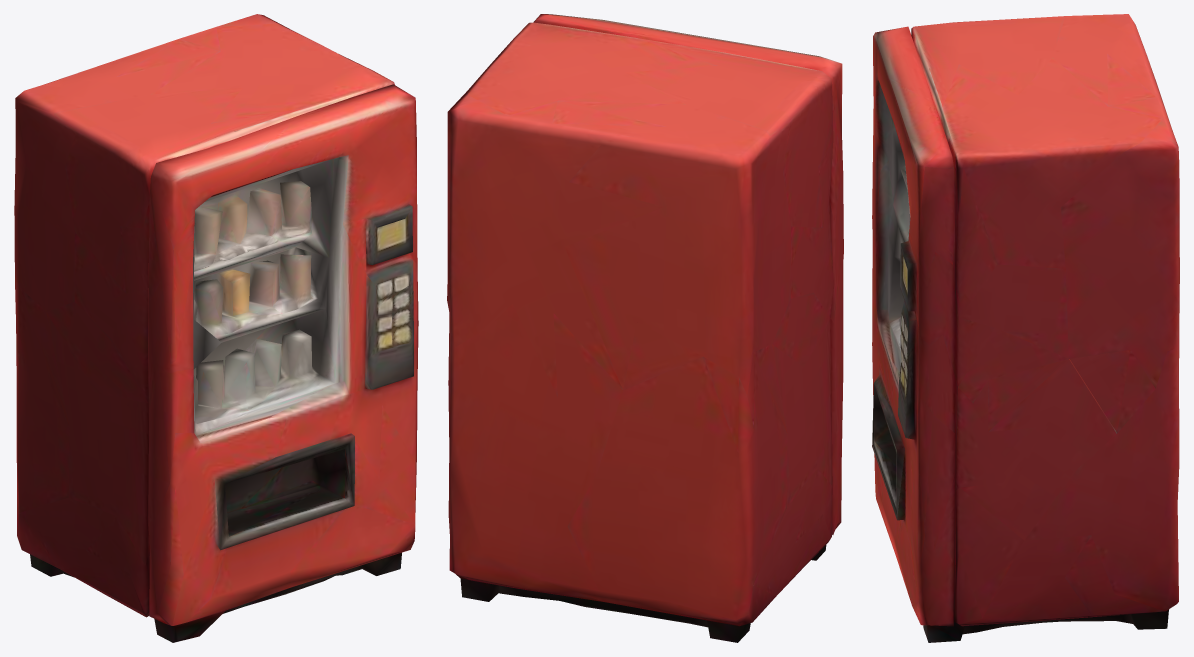
The model's file is vending.glb.
3 renders of one model, left to right at view 1: azimuth 30°, elevation 25°; view 2: azimuth 150°, elevation 25°; view 3: azimuth 270°, elevation 25°, orthographic. The views are drawn at different scales.
Parts seen in each view (by area): view 1: tripo_node_01a21d85-7fae-732e-8c1d-b5e06b31d991; view 2: tripo_node_01a21d85-7fae-732e-8c1d-b5e06b31d991; view 3: tripo_node_01a21d85-7fae-732e-8c1d-b5e06b31d991.
Boxes of the visible parts, x1,y1,x2,y2 form: tripo_node_01a21d85-7fae-732e-8c1d-b5e06b31d991: (14, 14, 418, 642); tripo_node_01a21d85-7fae-732e-8c1d-b5e06b31d991: (447, 14, 843, 642); tripo_node_01a21d85-7fae-732e-8c1d-b5e06b31d991: (872, 14, 1179, 642).
Bounding box in the file's own units: 1.24 × 1.85 × 1.05.
1 material, 1 textured.
